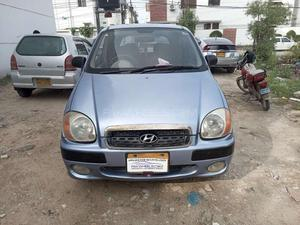windshield: (84, 28, 211, 71)
